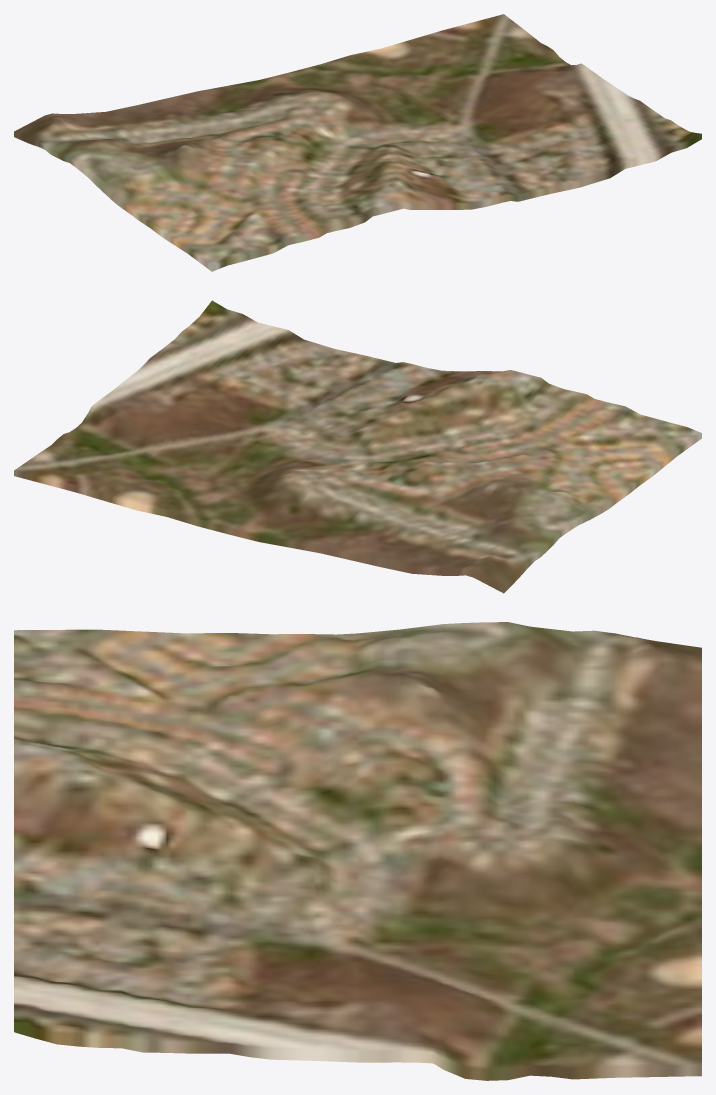
Rendered from terrain_r0_c7_lod2.glb.
3 views of the same model, one above another, from view 1: azimuth 30°, elevation 25°; view 2: azimuth 150°, elevation 25°; view 3: azimuth 270°, elevation 25° (orthographic). The views are drawn at different scales.
Visible parts, largest first — view 1: terrain_r0_c7_lod2; view 2: terrain_r0_c7_lod2; view 3: terrain_r0_c7_lod2.
Boxes of the visible parts, x1,y1,x2,y2 form: terrain_r0_c7_lod2: [14, 14, 701, 271]; terrain_r0_c7_lod2: [14, 300, 701, 593]; terrain_r0_c7_lod2: [14, 622, 701, 1080].
Bounding box in the file's own units: 1125 × 89.34 × 787.
1 material, 1 textured.
